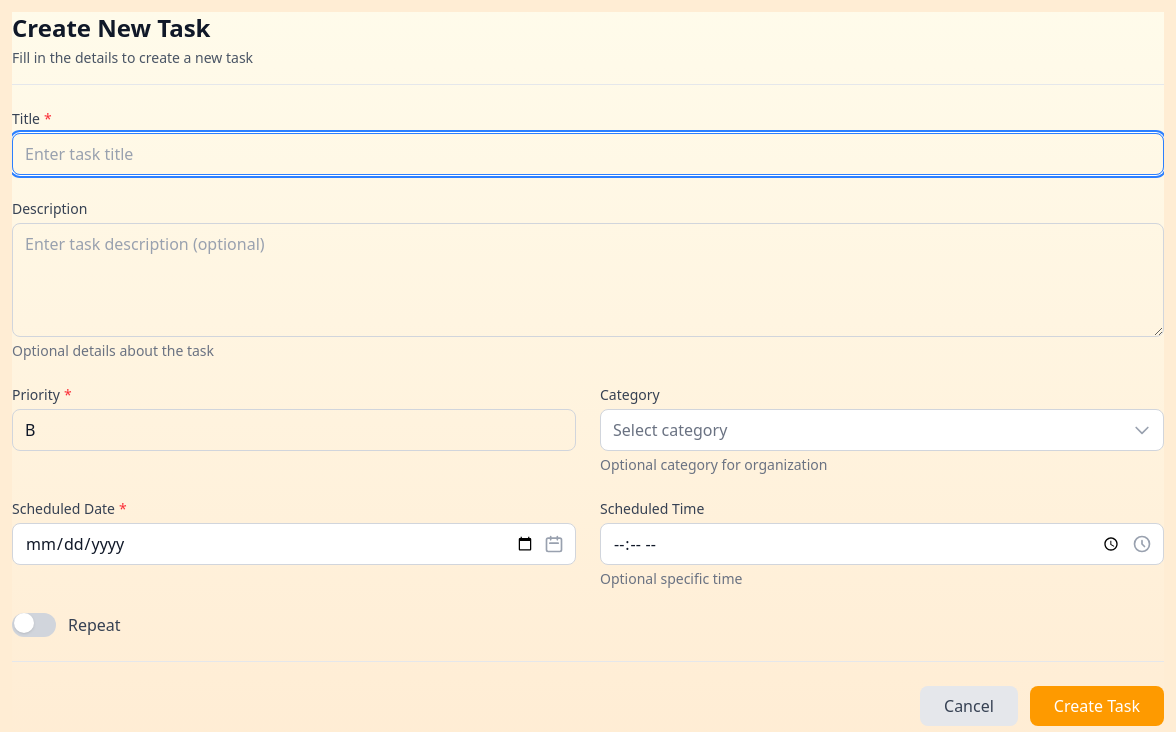
TaskForm - Validation › should validate that priority is required
This screenshot has width=1176, height=732.
Type "Valid Title" into the field labelled "Title*".
click(588, 154); type("Valid Title")  # box [12, 133, 1164, 175]
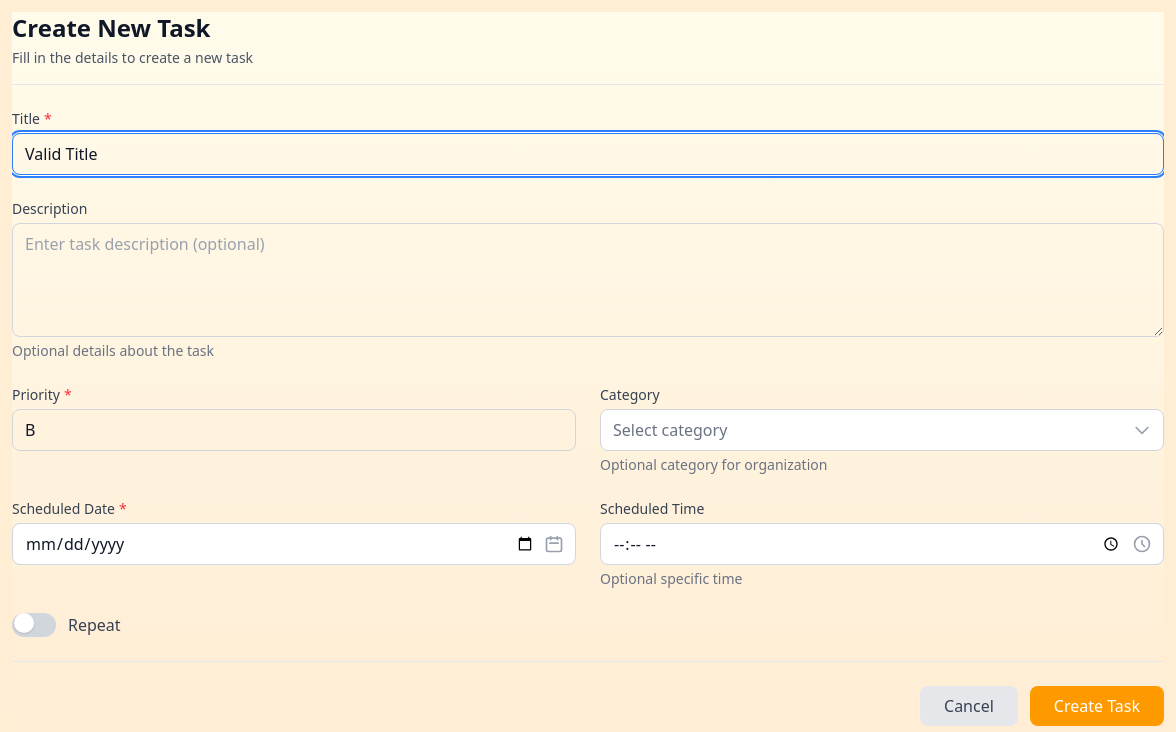
Clear the default priority value
Clear the field labelled "Priority*" at [294, 430], box [12, 409, 576, 451]
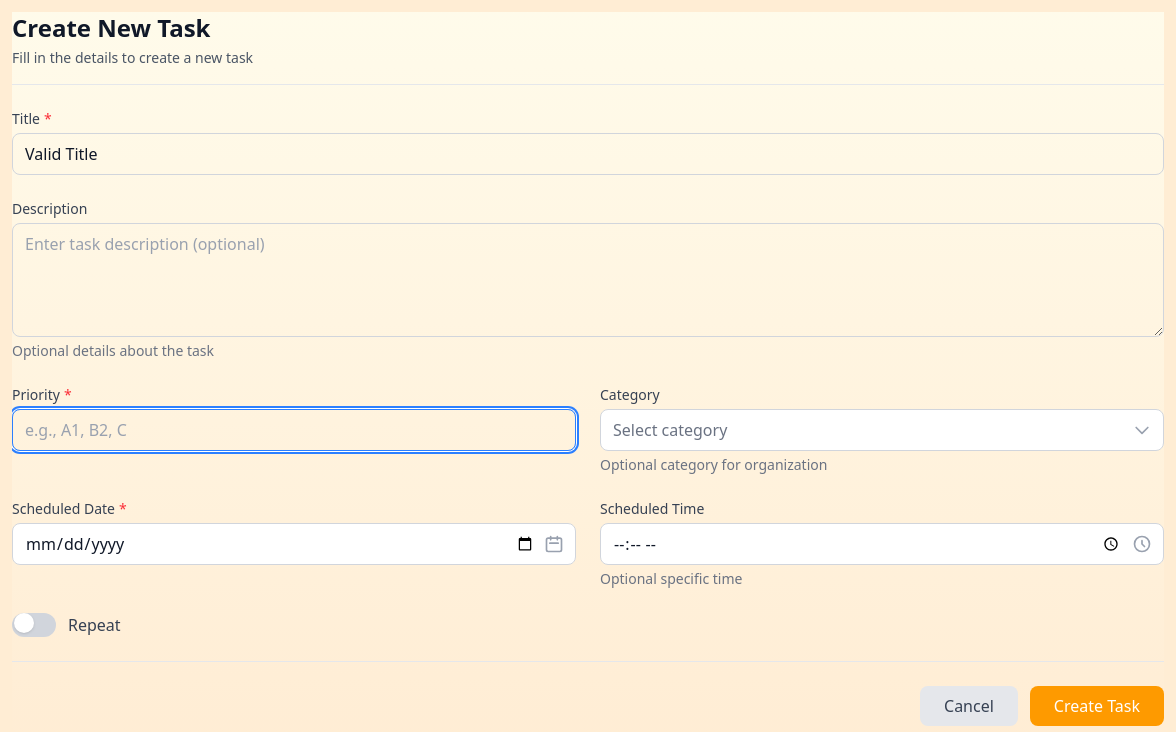
Click the button "Create Task".
click(1097, 706)  # box [1030, 686, 1164, 726]
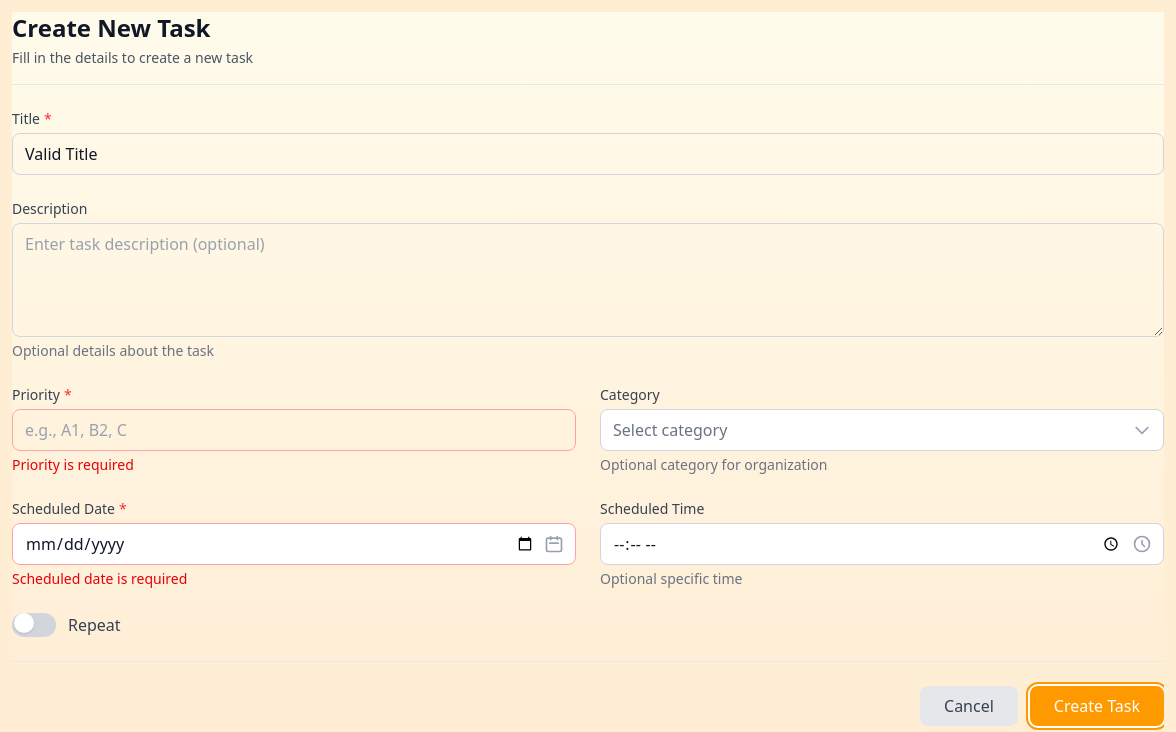
Expected: the text "Priority is required" is shown, [12, 455, 134, 474]
